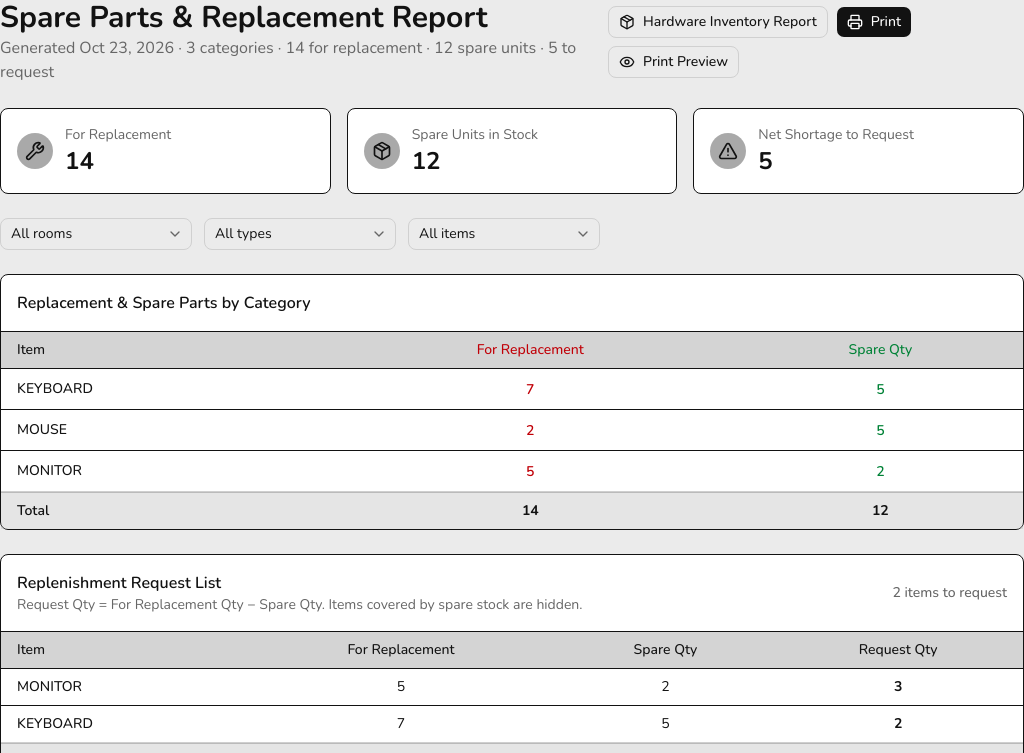
SparePartsReport › shows the inline error and keeps the previous data when a filter fails
The width and height of the screenshot is (1024, 753).
Click the dropdown named "filter by component type": (300, 234) [204,218,396,250]
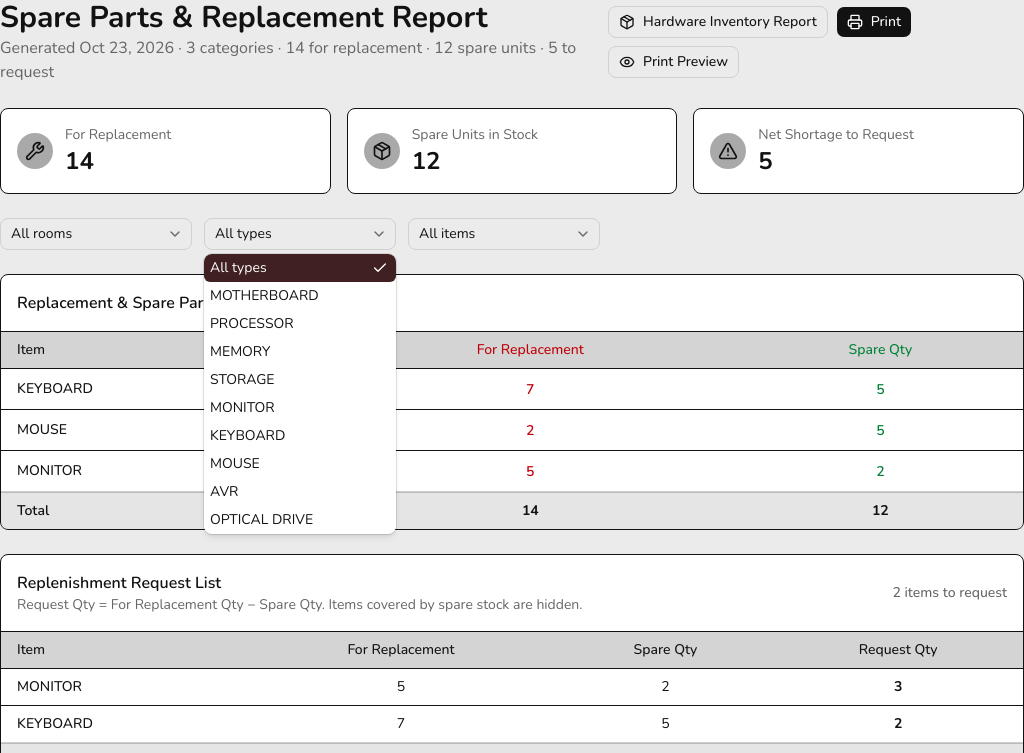
Click the option "MONITOR": (242, 408) [210,398,275,417]
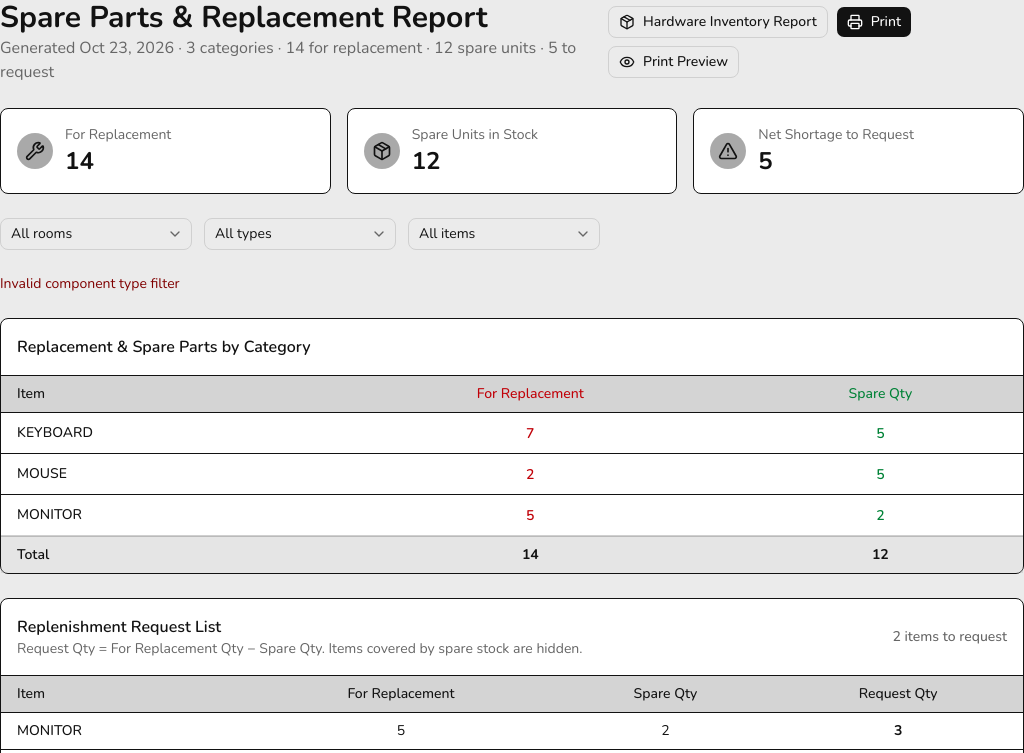
Expected: the link "KEYBOARD" below "Replacement & Spare Parts by Category" is shown, [17,423,93,442]
Expected: the message reads "Invalid component type filter", [0,274,180,293]
